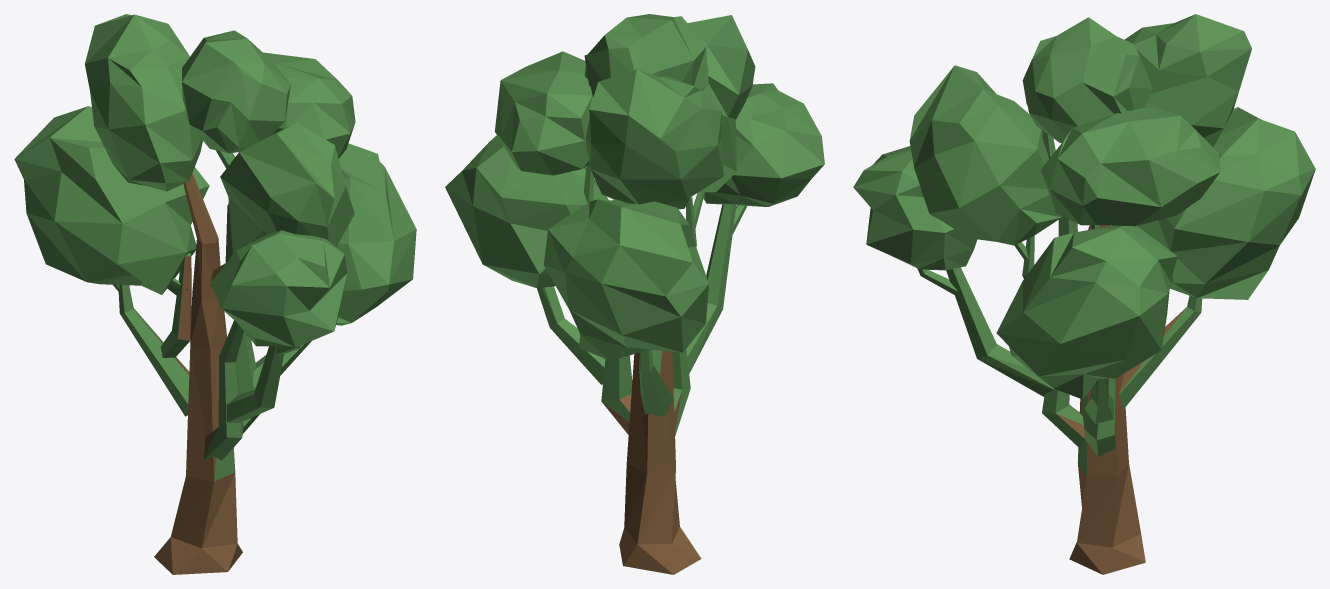
The model's file is tree3d-122.glb.
The picture shows the model from 3 angles, left to right: view 1: azimuth 30°, elevation 25°; view 2: azimuth 150°, elevation 25°; view 3: azimuth 270°, elevation 25°; orthographic projection.
Visible parts, largest first — view 1: tree3d-122; view 2: tree3d-122; view 3: tree3d-122.
Part boxes in pixels (<box>): tree3d-122: <box>14,14,416,574</box>; tree3d-122: <box>445,14,824,574</box>; tree3d-122: <box>853,14,1315,574</box>.
Bounding box in the file's own units: 0.609 × 1 × 0.7828.
